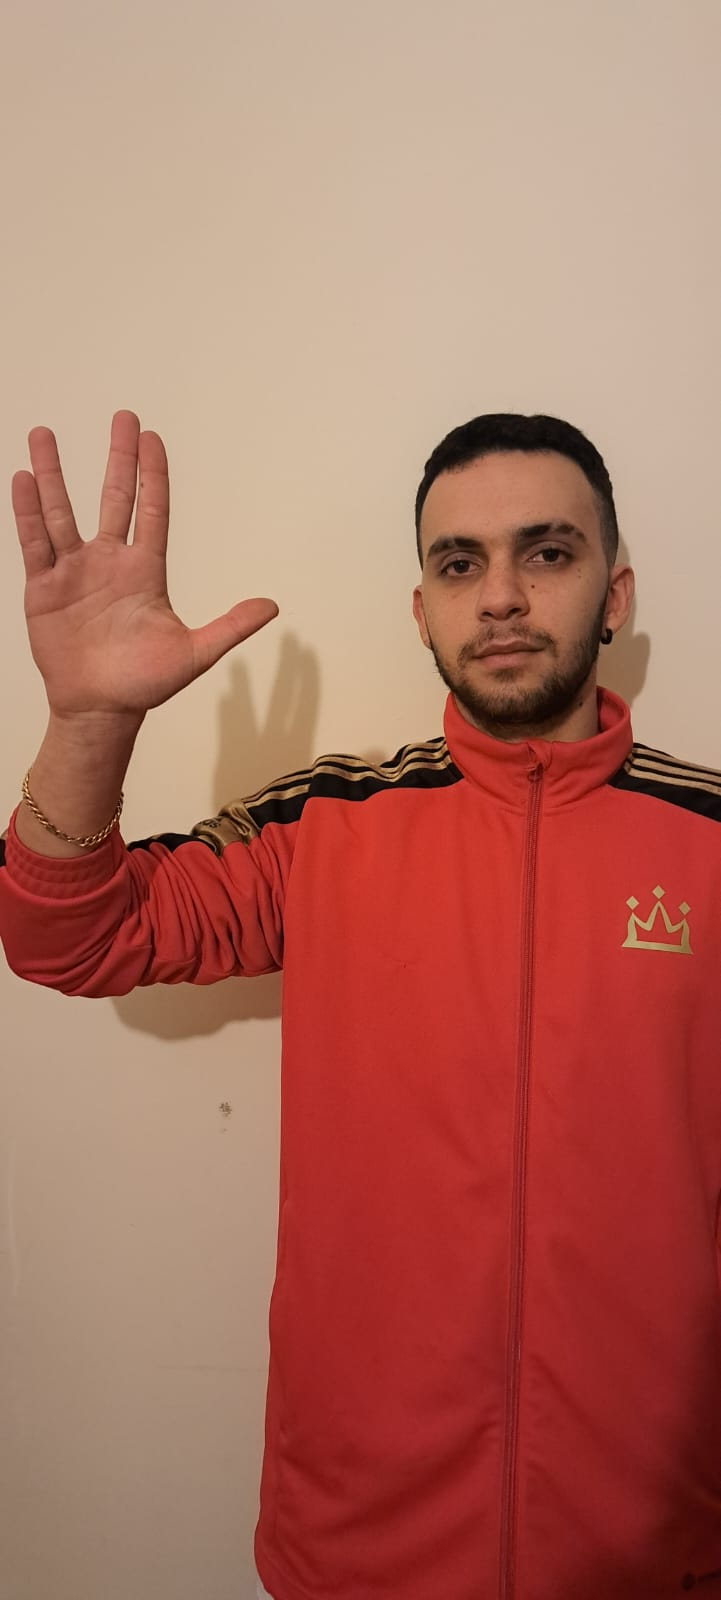alien: (7, 402, 290, 712)
